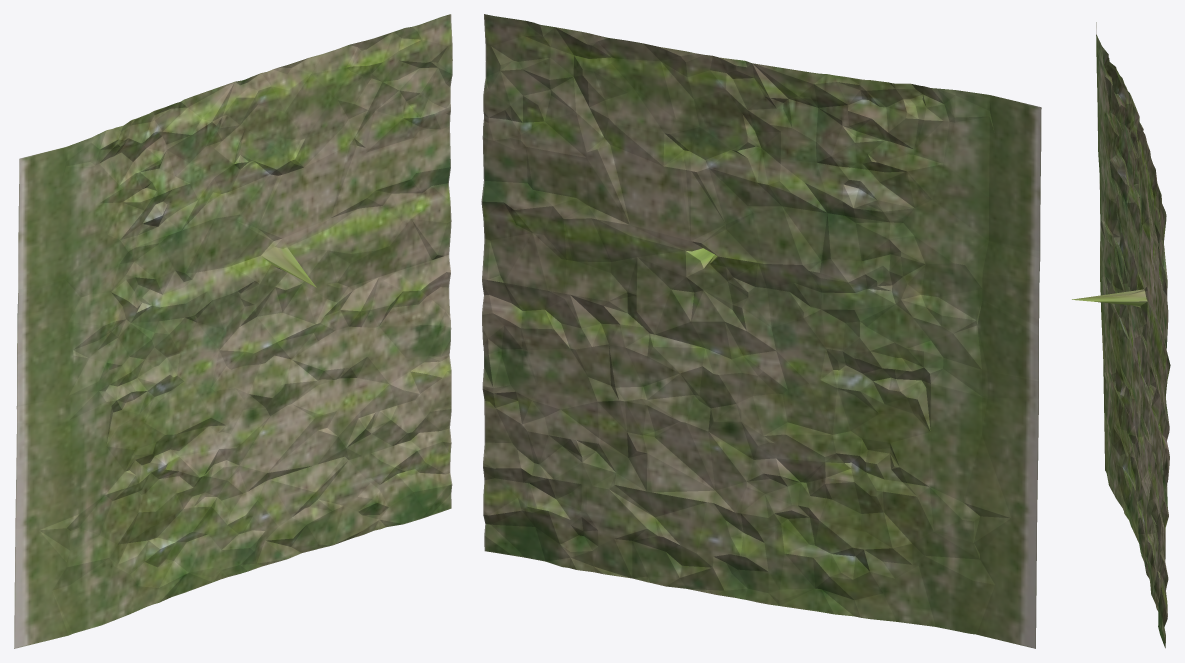
The model's file is map_130_90.obj.
The picture shows the model from 3 angles, left to right: view 1: azimuth 30°, elevation 25°; view 2: azimuth 150°, elevation 25°; view 3: azimuth 270°, elevation 25°; orthographic projection. The views are drawn at different scales.
Visible parts, largest first — view 1: grp1; view 2: grp1; view 3: grp1.
Part boxes in pixels (x1=…): grp1: x1=14, y1=14, x2=452, y2=648; grp1: x1=481, y1=14, x2=1041, y2=648; grp1: x1=1072, y1=22, x2=1170, y2=648.
Bounding box in the file's own units: 10 × 10 × 2.1.
1 material, 1 textured.
